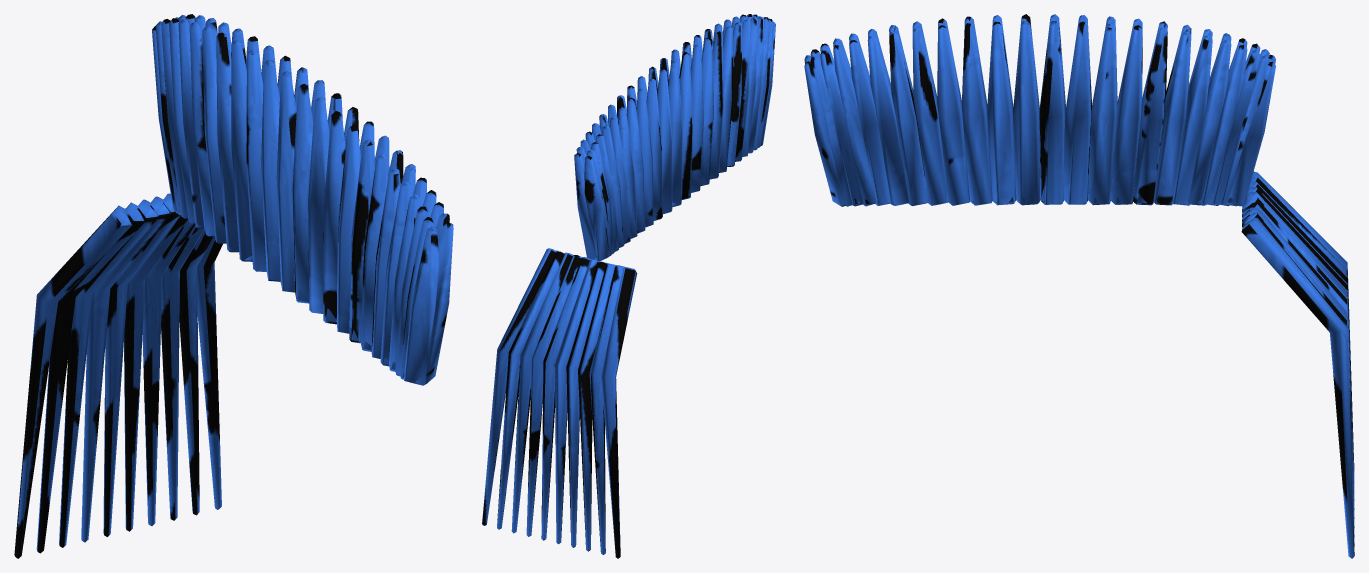
File: Atalanta_Casco_Liga.fbx
3 views of the same model, side by side, from view 1: azimuth 30°, elevation 25°; view 2: azimuth 150°, elevation 25°; view 3: azimuth 270°, elevation 25° (orthographic). The views are drawn at different scales.
Visible parts, largest first — view 1: Atalanta_Casco_Liga; view 2: Atalanta_Casco_Liga; view 3: Atalanta_Casco_Liga.
Part boxes in pixels (<box>): Atalanta_Casco_Liga: <box>14,14,453,558</box>; Atalanta_Casco_Liga: <box>482,14,775,558</box>; Atalanta_Casco_Liga: <box>804,14,1354,558</box>.
Size of the model in its own units: 0.5359 by 1.47 by 1.47.
